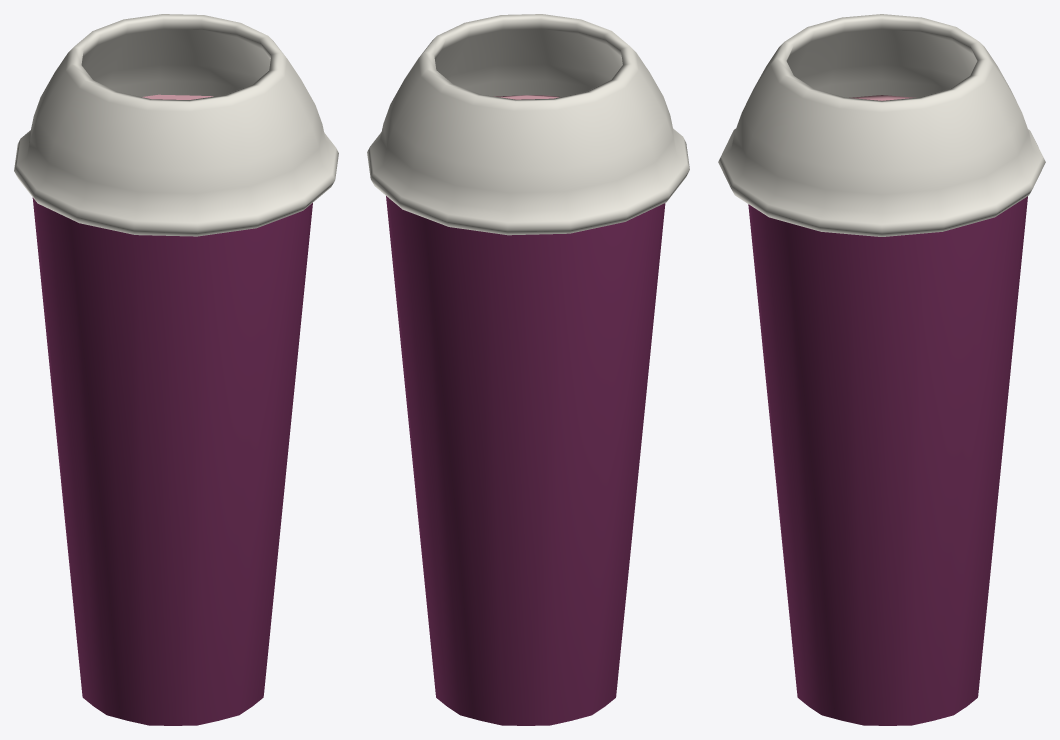
Rendered from Slurpee_Cup_HP.fbx.
3 views of the same model, side by side, from view 1: azimuth 30°, elevation 25°; view 2: azimuth 150°, elevation 25°; view 3: azimuth 270°, elevation 25° (orthographic).
Visible parts, largest first — view 1: SlurpeeCup_HP_SlurpeeLid_LP; view 2: SlurpeeCup_HP_SlurpeeLid_LP; view 3: SlurpeeCup_HP_SlurpeeLid_LP.
Part boxes in pixels (left/top/right/bottom): SlurpeeCup_HP_SlurpeeLid_LP: left=14, top=14, right=338, bottom=725; SlurpeeCup_HP_SlurpeeLid_LP: left=367, top=14, right=689, bottom=725; SlurpeeCup_HP_SlurpeeLid_LP: left=718, top=14, right=1045, bottom=725.
Size of the model in its own units: 6.09 by 12.92 by 6.09.
